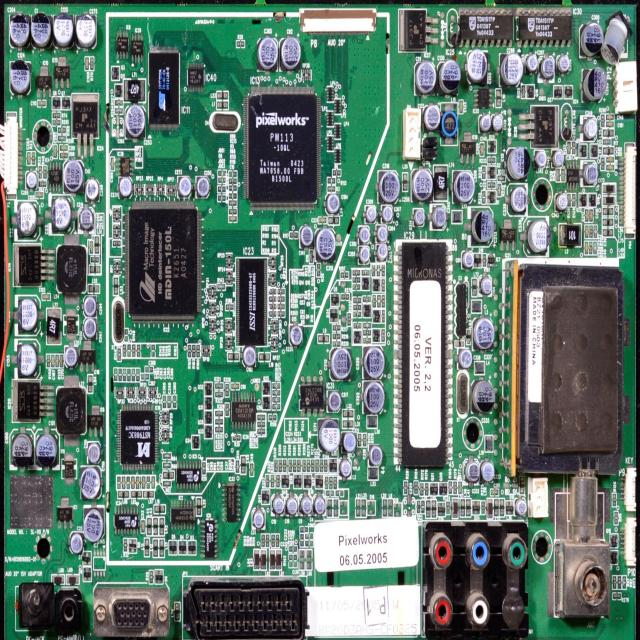Capacitor Jumper: (473, 210, 491, 243), (16, 345, 36, 373), (86, 512, 104, 541), (53, 198, 69, 230), (127, 110, 145, 138), (321, 422, 341, 447), (81, 469, 99, 496), (32, 14, 48, 44), (13, 434, 30, 462), (505, 55, 521, 84), (12, 60, 28, 89), (380, 174, 398, 199), (259, 40, 276, 66), (511, 150, 528, 176), (20, 301, 35, 330), (66, 163, 82, 190), (11, 17, 27, 44), (588, 72, 603, 100), (18, 209, 34, 234), (317, 232, 334, 255), (532, 222, 547, 248), (55, 16, 70, 42), (418, 63, 433, 88), (474, 322, 490, 345), (416, 172, 430, 198), (368, 350, 383, 374), (442, 63, 456, 88), (333, 353, 347, 378), (584, 26, 599, 49), (511, 186, 525, 210), (476, 383, 490, 407), (367, 384, 381, 408), (456, 174, 469, 199), (470, 55, 484, 78), (78, 17, 94, 37), (283, 41, 296, 64), (40, 439, 55, 458), (79, 209, 93, 229), (584, 165, 597, 182), (71, 536, 82, 555), (88, 180, 99, 199), (427, 108, 439, 125), (585, 116, 595, 136), (290, 326, 301, 344), (542, 60, 554, 76), (65, 348, 76, 365), (253, 510, 263, 528), (180, 178, 190, 196), (434, 207, 444, 224), (85, 321, 96, 336), (462, 354, 471, 371), (467, 464, 477, 479), (359, 250, 369, 265), (371, 448, 380, 464), (274, 497, 283, 513), (287, 498, 296, 514), (200, 178, 209, 194), (555, 195, 565, 209), (303, 228, 313, 242), (85, 300, 95, 314), (331, 393, 339, 409), (91, 444, 98, 462), (328, 198, 337, 212), (316, 499, 324, 514), (122, 179, 130, 194), (382, 205, 390, 220), (366, 207, 374, 222), (482, 464, 491, 477), (302, 499, 311, 512), (516, 500, 525, 513), (481, 278, 489, 292), (28, 173, 35, 188), (555, 153, 562, 167), (415, 211, 423, 223), (528, 58, 536, 69), (560, 58, 568, 69), (536, 153, 544, 164), (379, 226, 385, 240), (359, 229, 366, 241), (378, 246, 385, 258), (465, 253, 472, 265), (494, 116, 501, 126), (38, 99, 46, 106), (53, 144, 57, 158), (484, 117, 488, 130), (26, 151, 30, 164), (140, 522, 144, 533), (111, 158, 114, 172), (42, 294, 50, 299), (85, 58, 88, 71), (136, 369, 139, 382), (489, 491, 498, 495), (60, 146, 69, 150), (136, 477, 139, 488), (300, 534, 308, 538), (250, 464, 253, 474), (152, 478, 155, 488), (589, 210, 592, 220), (90, 242, 93, 252), (146, 367, 152, 372), (172, 397, 175, 407), (36, 192, 43, 196), (232, 384, 239, 388), (460, 101, 462, 113), (320, 218, 326, 222), (52, 354, 54, 366), (142, 374, 148, 378), (167, 397, 170, 405), (142, 477, 144, 488), (585, 241, 587, 252), (607, 159, 614, 162), (122, 479, 124, 489), (481, 144, 483, 154), (586, 211, 588, 221), (60, 356, 62, 366), (123, 370, 125, 380), (132, 370, 134, 380), (132, 477, 134, 486), (230, 210, 236, 213), (230, 217, 236, 220), (606, 115, 611, 118), (607, 123, 612, 126), (586, 226, 587, 237), (120, 368, 121, 379), (115, 370, 116, 381), (128, 370, 129, 379), (163, 397, 164, 406), (608, 167, 612, 169)
IC: (249, 94, 318, 207), (131, 208, 195, 319), (237, 259, 266, 343), (150, 55, 178, 123), (121, 409, 153, 463), (460, 15, 510, 39), (12, 379, 40, 420), (73, 96, 97, 141), (399, 11, 425, 49), (531, 106, 555, 147), (521, 19, 568, 39), (16, 249, 38, 283), (300, 386, 322, 410), (231, 402, 256, 422), (188, 63, 203, 90), (227, 484, 237, 520), (38, 66, 53, 90), (114, 514, 139, 528), (170, 509, 196, 522), (206, 520, 215, 556), (178, 470, 200, 482), (56, 62, 68, 82), (116, 35, 128, 54), (50, 168, 62, 186), (58, 508, 73, 520), (133, 36, 142, 54), (81, 349, 94, 361), (500, 229, 514, 240), (120, 158, 129, 175), (462, 142, 474, 153), (90, 416, 103, 426), (480, 90, 487, 108), (569, 169, 577, 181), (488, 256, 494, 265)
Resistor Jumper: (340, 272, 350, 277), (272, 382, 280, 388), (613, 493, 616, 508), (333, 170, 340, 176), (277, 288, 283, 295), (341, 293, 348, 299), (215, 392, 222, 398), (216, 410, 223, 416), (612, 578, 616, 588), (481, 167, 485, 177), (38, 182, 46, 187), (91, 257, 99, 262), (225, 303, 233, 308), (297, 458, 300, 471), (91, 58, 94, 70), (32, 152, 35, 164), (572, 195, 575, 207), (309, 251, 312, 263), (53, 120, 60, 125), (604, 139, 611, 144), (60, 154, 67, 159), (217, 284, 224, 289), (334, 342, 341, 347), (414, 482, 417, 493), (615, 512, 618, 523), (567, 196, 570, 207), (196, 345, 199, 356), (47, 357, 50, 368), (300, 541, 308, 545), (326, 178, 334, 182), (404, 482, 407, 492), (453, 482, 456, 492), (266, 536, 269, 546), (43, 168, 46, 178), (38, 168, 41, 178), (219, 178, 225, 183), (496, 184, 499, 194), (483, 192, 486, 202), (291, 233, 297, 238), (376, 264, 379, 274), (278, 311, 284, 316), (348, 313, 351, 323), (258, 414, 264, 419), (237, 41, 243, 46), (164, 454, 171, 458), (300, 527, 307, 531), (115, 101, 122, 105), (58, 128, 65, 132), (488, 158, 495, 162), (497, 176, 504, 180), (229, 195, 236, 199), (216, 418, 223, 422), (215, 427, 222, 431), (329, 477, 332, 486), (381, 266, 384, 275), (381, 331, 384, 340), (151, 345, 154, 354), (279, 459, 281, 472), (303, 459, 305, 472), (488, 182, 493, 187), (233, 435, 238, 440), (202, 462, 204, 474), (448, 502, 450, 514), (59, 137, 65, 141), (573, 143, 575, 155), (229, 180, 235, 184), (589, 228, 592, 236), (278, 297, 284, 301), (332, 326, 338, 330), (192, 344, 194, 356), (188, 345, 190, 357), (216, 383, 222, 387), (226, 384, 228, 396), (270, 414, 276, 418), (293, 459, 295, 470), (275, 459, 277, 470), (316, 460, 318, 471), (266, 475, 268, 486), (326, 476, 328, 487), (421, 483, 423, 494), (594, 243, 596, 254), (56, 356, 58, 367), (229, 173, 236, 176), (278, 305, 285, 308), (273, 398, 280, 401), (311, 460, 313, 470), (283, 460, 285, 470), (306, 460, 308, 470), (236, 462, 238, 472), (426, 483, 428, 493), (614, 594, 619, 598), (602, 158, 604, 168), (484, 256, 486, 266), (363, 270, 368, 274), (270, 289, 275, 293), (372, 294, 374, 304), (378, 296, 380, 306), (382, 296, 384, 306), (354, 306, 359, 310), (382, 311, 384, 321), (364, 322, 369, 326), (364, 337, 369, 341), (118, 350, 120, 360), (226, 405, 228, 415), (259, 422, 264, 426), (324, 460, 326, 469), (163, 464, 169, 467), (272, 536, 274, 545), (262, 536, 264, 545), (276, 536, 278, 545), (623, 578, 625, 587), (116, 109, 122, 112), (54, 114, 60, 117), (557, 170, 559, 179), (328, 187, 334, 190), (230, 202, 236, 205), (316, 266, 318, 275), (354, 323, 360, 326), (258, 430, 264, 433), (618, 578, 620, 586), (522, 88, 524, 96), (562, 172, 564, 180), (372, 266, 374, 274), (354, 271, 358, 275), (354, 283, 358, 287), (270, 297, 274, 301), (137, 346, 139, 354), (363, 436, 365, 444), (363, 297, 368, 300), (364, 331, 369, 334), (273, 392, 280, 394), (272, 476, 273, 489), (125, 540, 126, 552), (568, 142, 569, 154), (230, 188, 236, 190), (354, 278, 358, 281), (270, 304, 274, 307), (273, 406, 279, 408), (595, 226, 596, 237), (133, 345, 134, 356), (321, 459, 322, 469), (164, 482, 169, 484), (450, 482, 451, 492), (460, 482, 461, 492), (151, 571, 152, 581), (602, 115, 603, 125), (590, 244, 591, 254), (383, 280, 384, 290), (354, 298, 359, 300), (333, 336, 338, 338), (124, 346, 125, 356), (289, 460, 290, 469), (277, 476, 278, 485), (359, 435, 360, 444), (335, 479, 336, 487), (355, 312, 359, 314), (270, 312, 274, 314)
Transistor: (260, 490, 269, 504), (352, 331, 362, 342), (610, 550, 617, 564), (112, 68, 120, 80), (578, 194, 586, 206), (362, 278, 370, 290), (192, 437, 200, 448), (282, 473, 288, 487), (116, 85, 123, 97), (53, 98, 60, 110), (588, 196, 596, 206), (295, 475, 301, 488), (62, 96, 68, 109), (488, 166, 494, 179), (304, 476, 311, 487), (611, 536, 618, 546), (580, 146, 586, 157), (363, 304, 369, 315), (206, 384, 212, 395), (263, 397, 269, 408), (317, 477, 323, 487), (431, 484, 437, 494), (440, 484, 446, 494), (528, 86, 534, 96), (490, 192, 496, 202), (332, 294, 338, 304), (264, 383, 270, 393), (206, 399, 212, 409), (205, 427, 211, 437), (373, 331, 378, 342), (554, 88, 560, 97), (373, 310, 378, 320), (205, 413, 210, 422), (565, 89, 570, 97), (374, 280, 379, 288)
